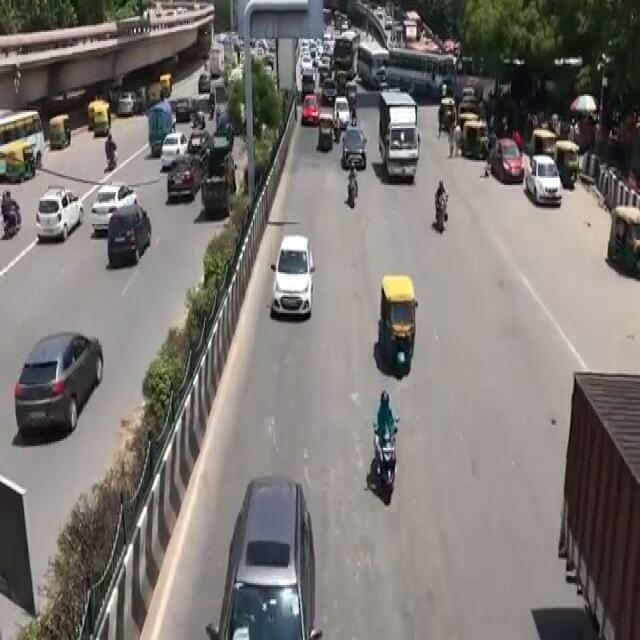three_wheeler: (374, 262, 425, 389)
